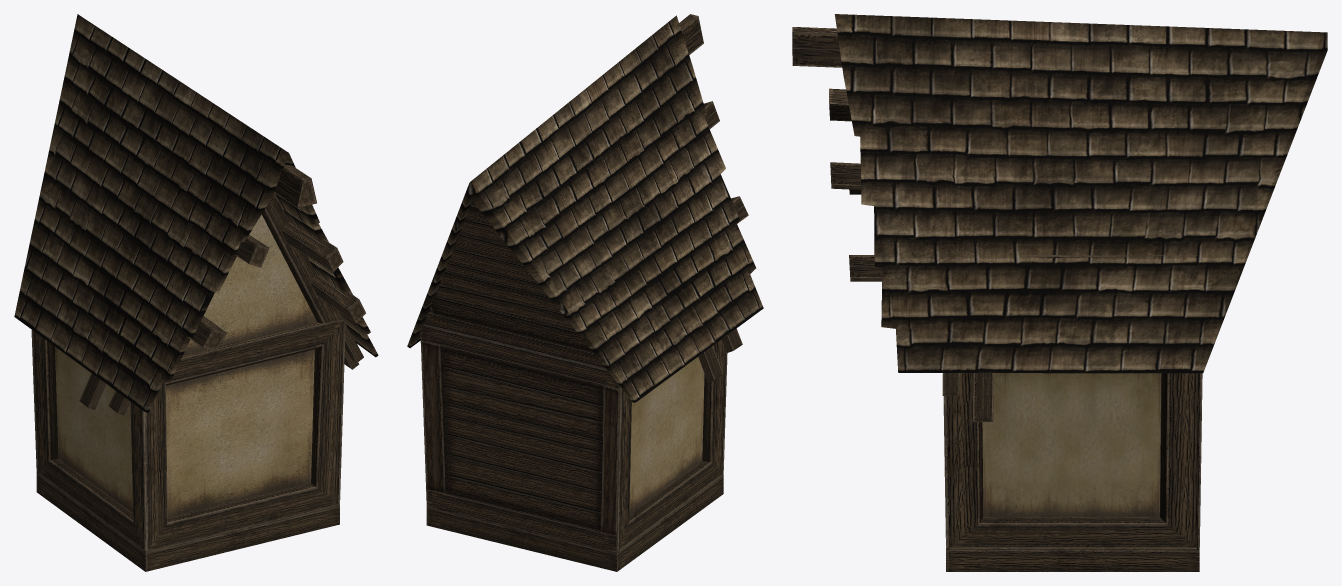
File: Window_a01.fbx
3 views of the same model, side by side, from view 1: azimuth 30°, elevation 25°; view 2: azimuth 150°, elevation 25°; view 3: azimuth 270°, elevation 25° (orthographic). The views are drawn at different scales.
Parts seen in each view (by area): view 1: Window_a01; view 2: Window_a01; view 3: Window_a01.
Part boxes in pixels (left/top/right/bottom): Window_a01: left=14, top=14, right=378, bottom=571; Window_a01: left=407, top=14, right=763, bottom=571; Window_a01: left=792, top=14, right=1327, bottom=571.
Size of the model in its own units: 3.86 by 6.26 by 6.06.
